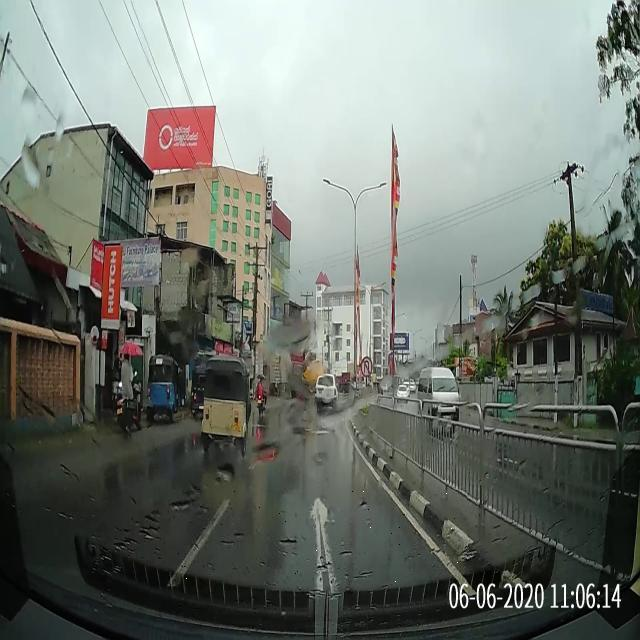forward: (169, 491, 467, 582)
